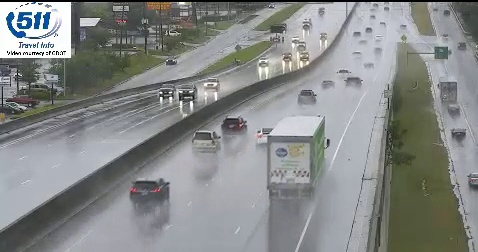car: (130, 178, 170, 203), (192, 130, 220, 154), (221, 117, 247, 135), (257, 128, 276, 146), (297, 89, 316, 104), (345, 77, 361, 89)
small-truck: (267, 117, 325, 197)
